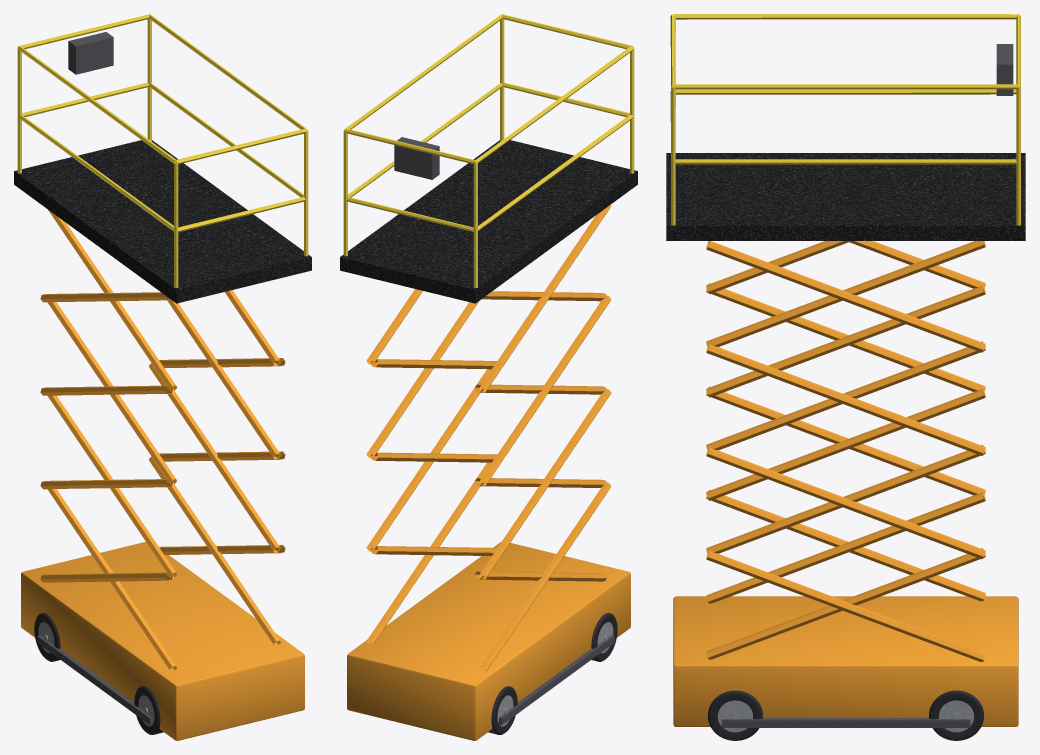
The model's file is lift_scissor_orange.gltf.
3 views of the same model, side by side, from view 1: azimuth 30°, elevation 25°; view 2: azimuth 150°, elevation 25°; view 3: azimuth 270°, elevation 25° (orthographic). The views are drawn at different scales.
Parts seen in each view (by area): view 1: lift_scissor_orange; view 2: lift_scissor_orange; view 3: lift_scissor_orange.
Boxes of the visible parts, bbox=[...] form: lift_scissor_orange: bbox=[14, 14, 311, 740]; lift_scissor_orange: bbox=[340, 14, 637, 740]; lift_scissor_orange: bbox=[666, 14, 1025, 740].
Size of the model in its own units: 1.28 by 5.24 by 2.6.
8 materials, 5 textured.
